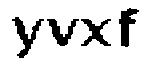f: (112, 1, 140, 49)
v: (45, 13, 80, 49)
x: (79, 13, 112, 48)
y: (10, 15, 44, 60)
